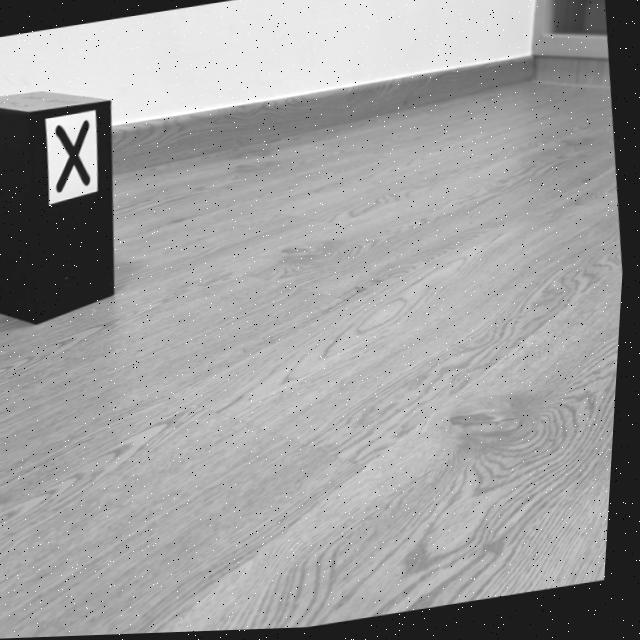X: (56, 120, 92, 193)
